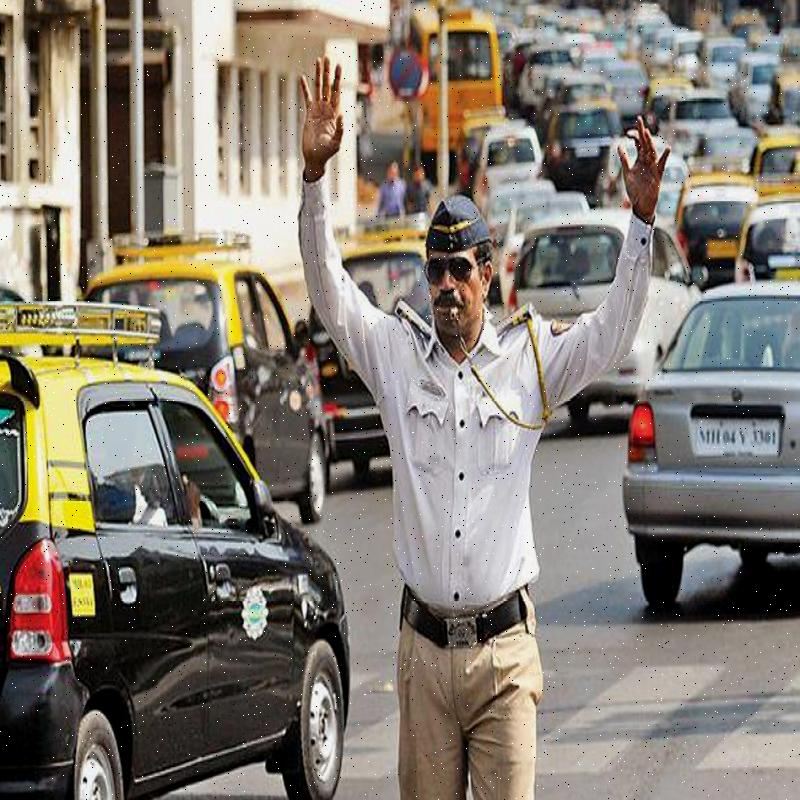car: (0, 262, 355, 800), (94, 194, 340, 521), (612, 276, 800, 627), (504, 222, 704, 406)
